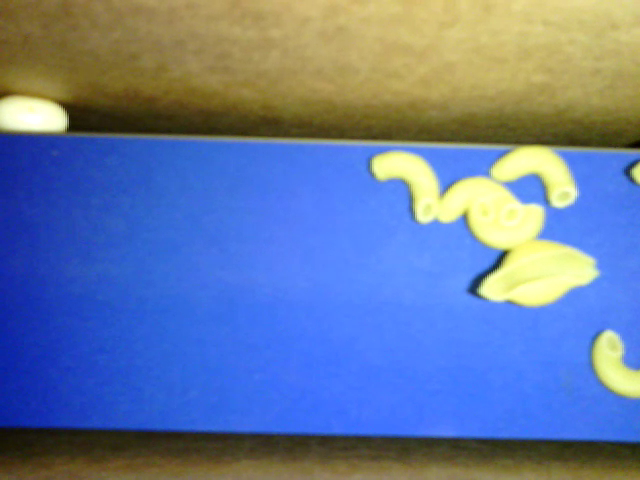elbow: (489, 145, 580, 209), (369, 149, 438, 225), (437, 176, 520, 222), (467, 205, 546, 249), (592, 327, 639, 398)
shell: (476, 238, 599, 308)
